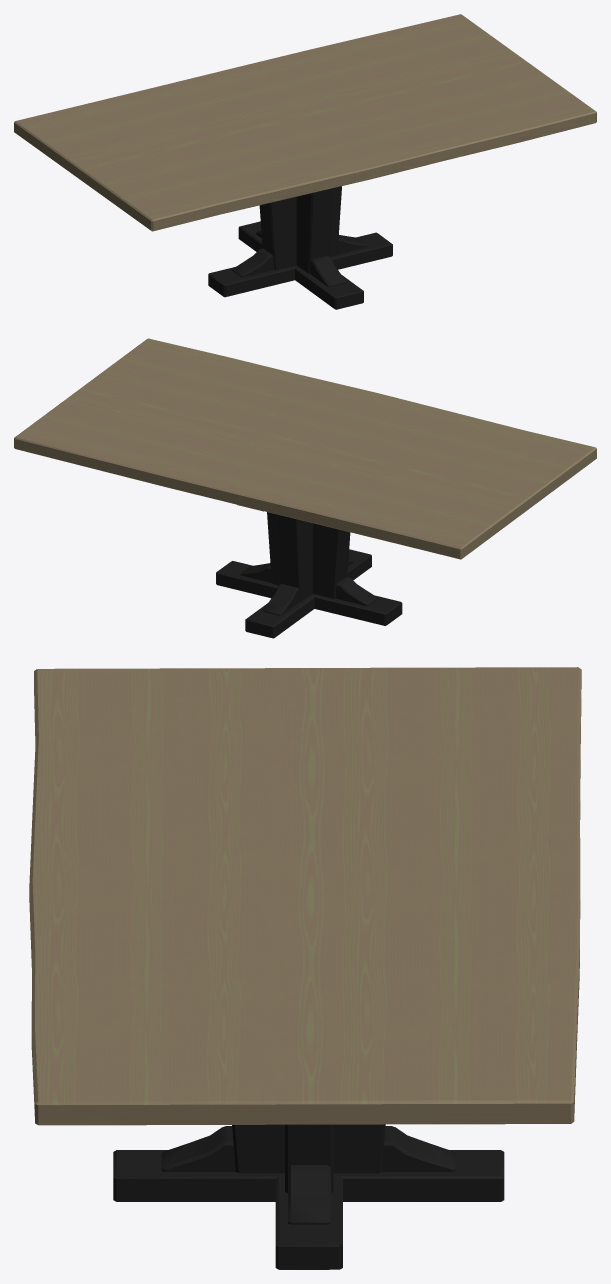
The model's file is LudumDareTable 1.fbx.
3 renders of one model, top to bottom at view 1: azimuth 30°, elevation 25°; view 2: azimuth 150°, elevation 25°; view 3: azimuth 270°, elevation 25°, orthographic. The views are drawn at different scales.
Parts seen in each view (by area): view 1: MyTable.001, MyTable; view 2: MyTable.001, MyTable; view 3: MyTable.001, MyTable.
Boxes of the visible parts, x1=… form: MyTable.001: x1=14, y1=14, x2=596, y2=231; MyTable: x1=208, y1=186, x2=392, y2=309; MyTable.001: x1=14, y1=338, x2=596, y2=559; MyTable: x1=216, y1=504, x2=402, y2=638; MyTable.001: x1=29, y1=667, x2=581, y2=1125; MyTable: x1=113, y1=1124, x2=504, y2=1269.
Bounding box in the file's own units: 257 × 84.79 × 137.
